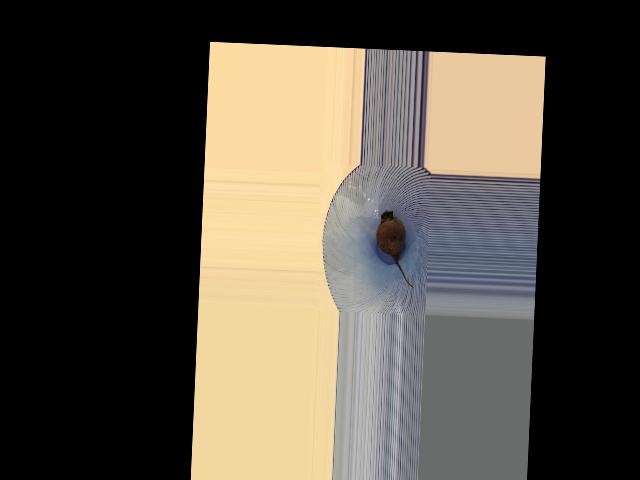beet: (374, 209, 417, 287)
